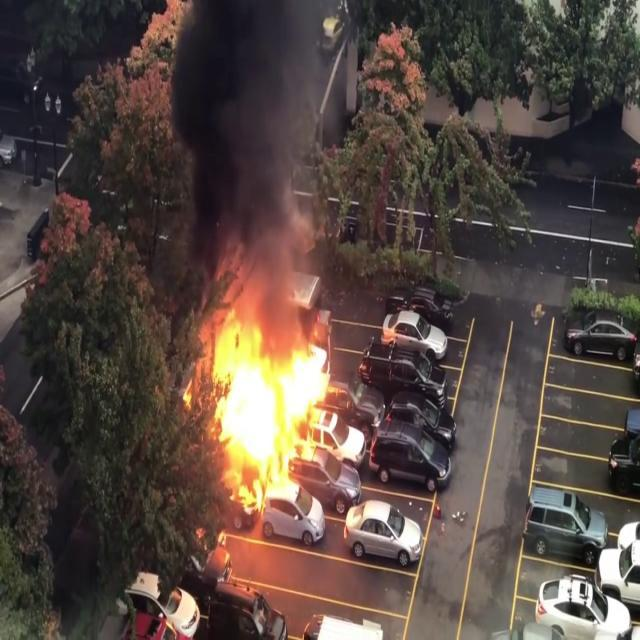Fire: (196, 312, 347, 516)
Smoke: (154, 0, 335, 315)
